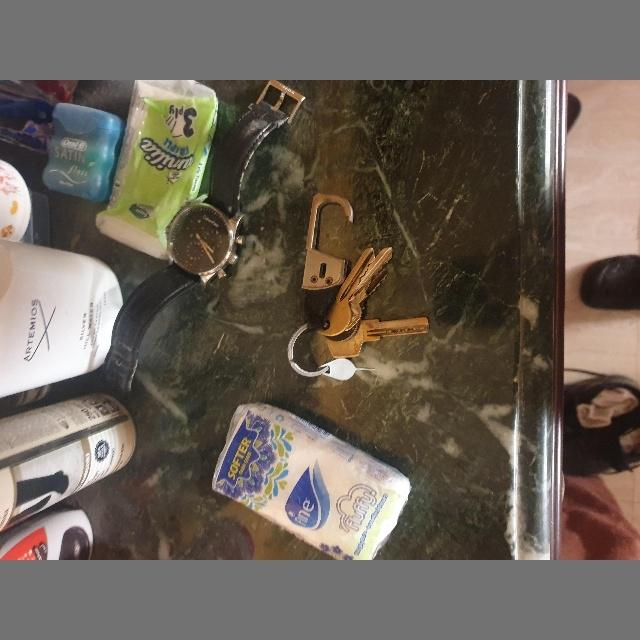Keys: (239, 286, 495, 406)
